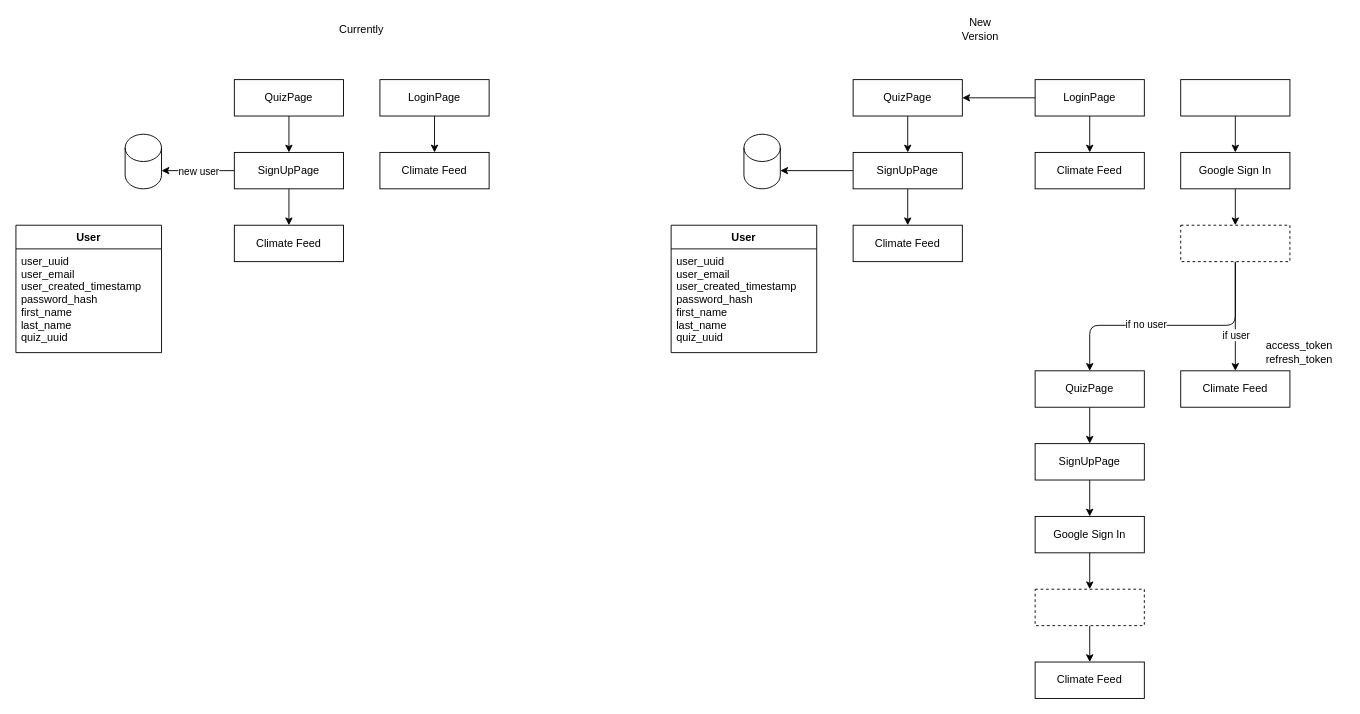
Some shapes in this 1360 by 714 pixel diagram are drawn without their labels. The centre of each missing label's shape, as x and y in pixels:
"callback()" goes at point (1235, 243).
"callback_signup()" goes at point (1089, 607).
"LoginPage with Google" goes at point (1235, 97).
